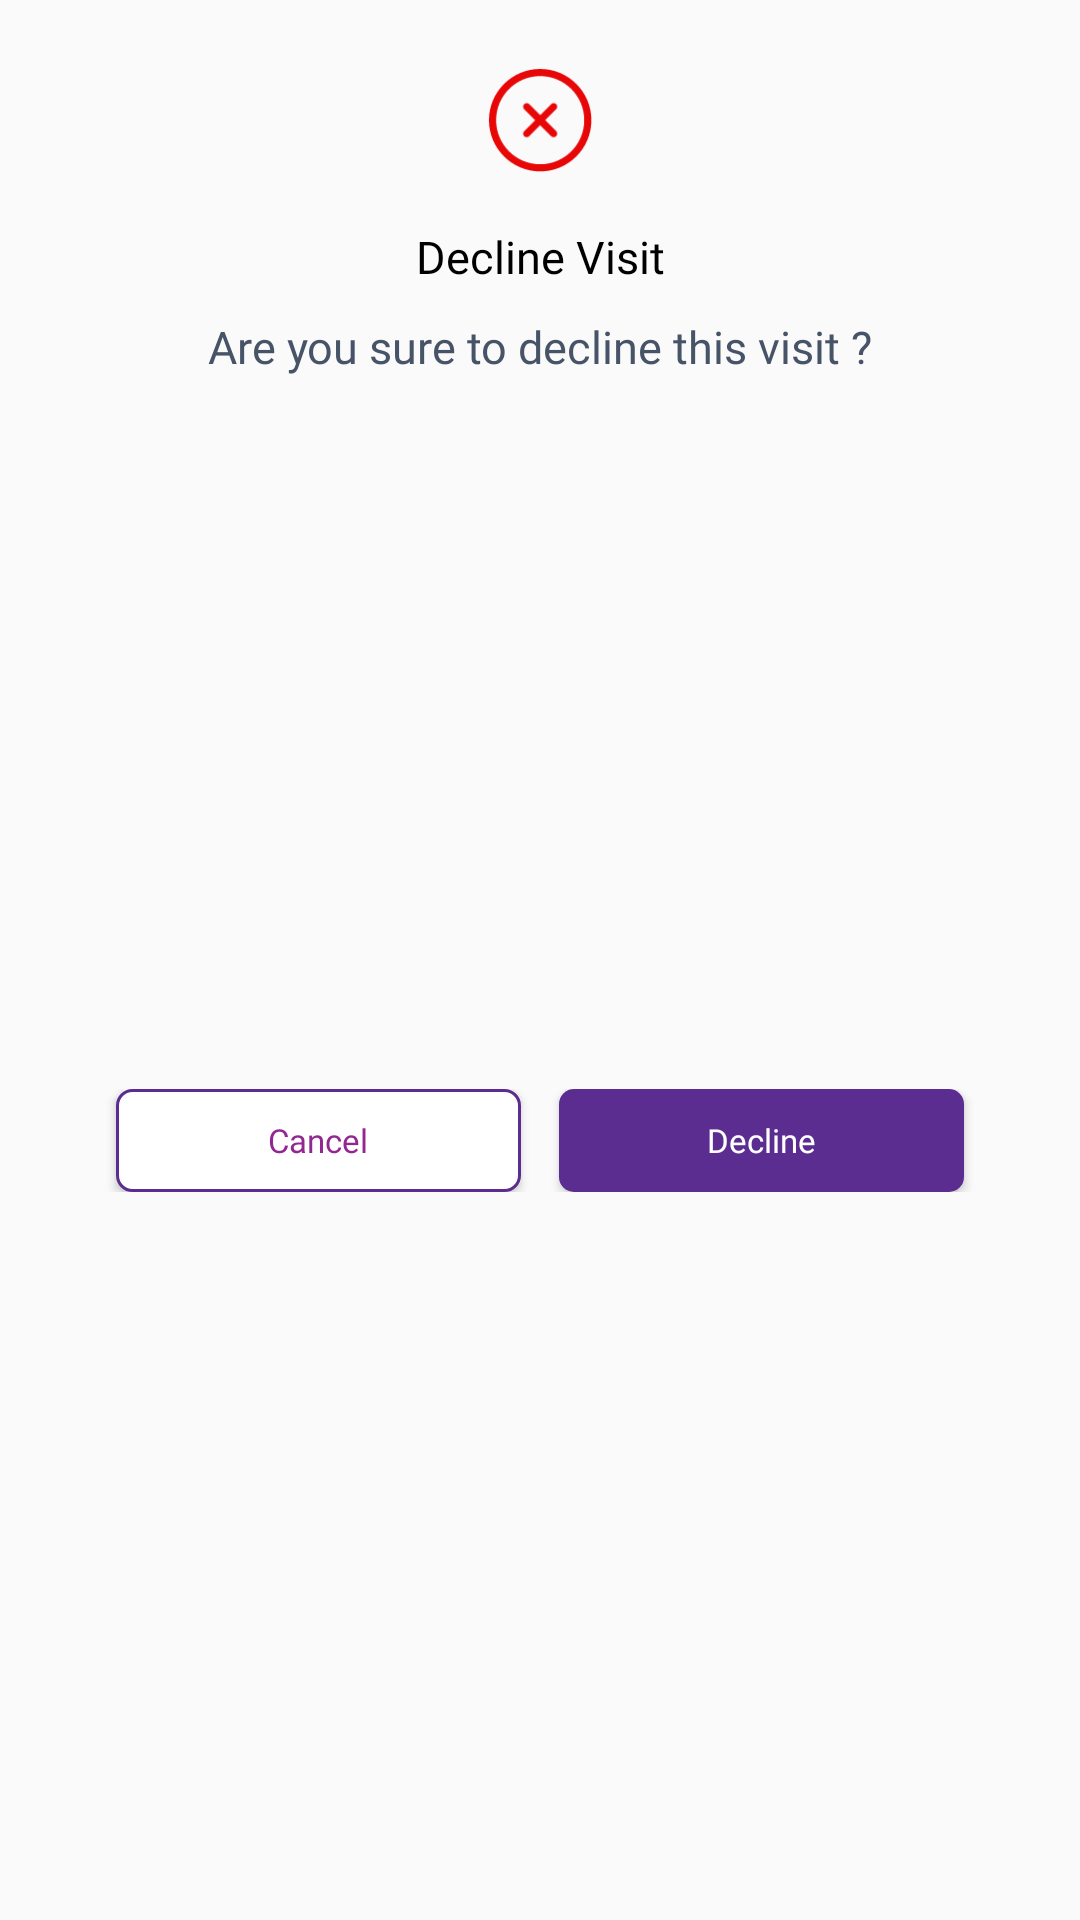

Locate icon controls on the screen. Image size 1080w x 1920h, boxes as (x1, y1, x2, y2).
error: (489, 69, 592, 172)
